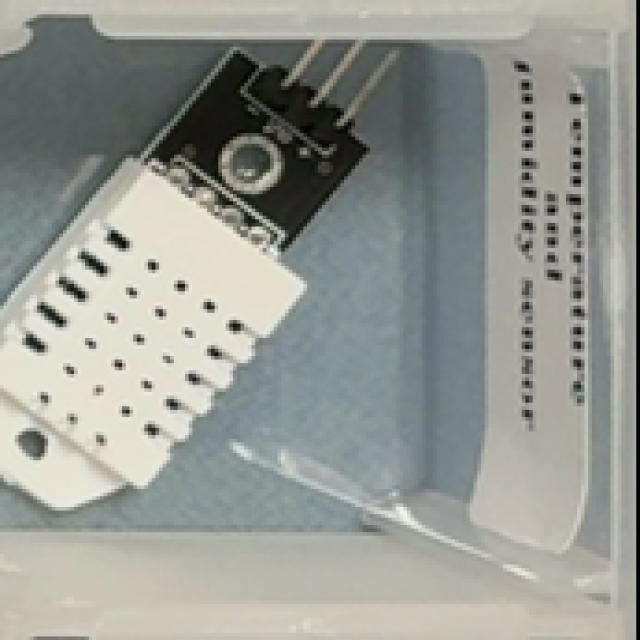Temperature And Humidity Sensor: (0, 21, 403, 518)
